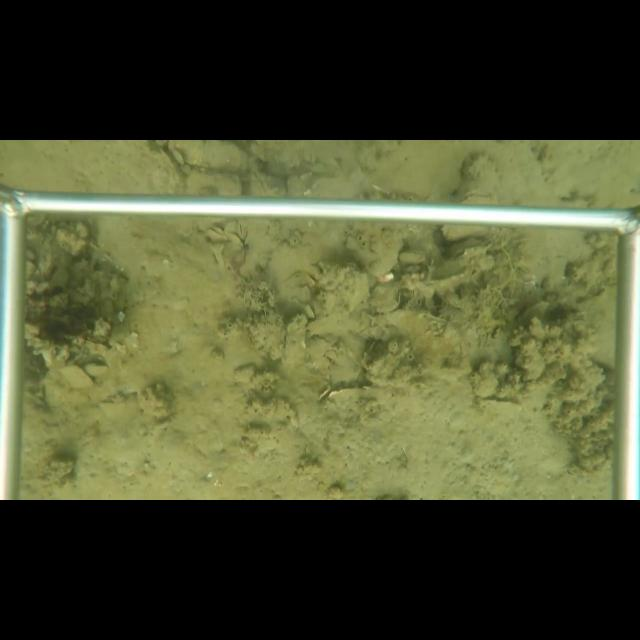Oyster-Closed: (168, 141, 249, 173), (369, 279, 403, 313), (398, 250, 426, 264)
